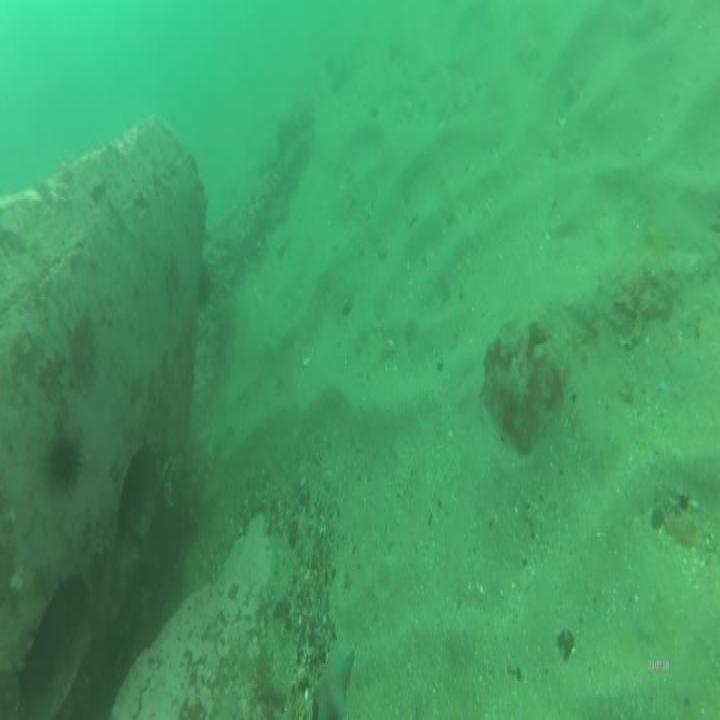echinus: (48, 430, 82, 494)
starfish: (306, 634, 357, 720)
